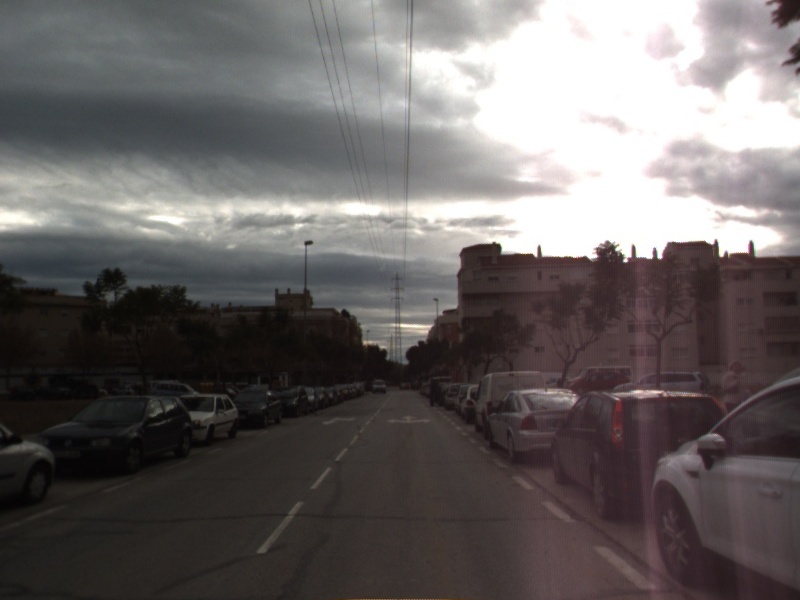STRAIGHT_LEFT_RIGHT: (385, 413, 434, 426)
